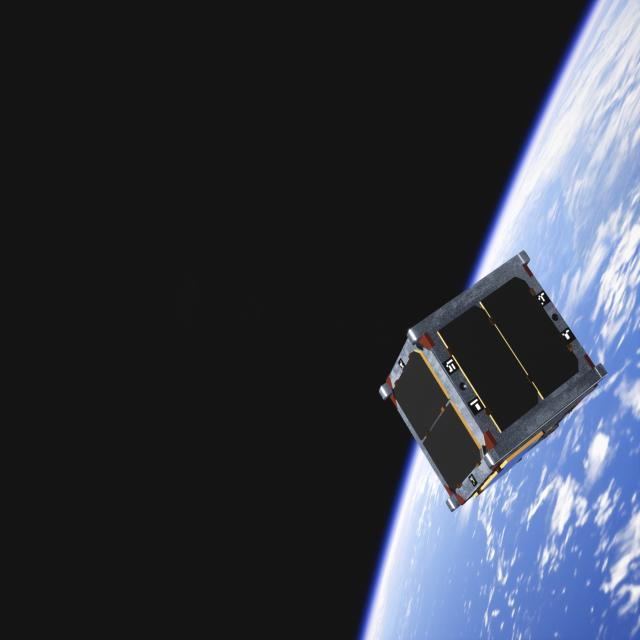medium_debris: (376, 250, 620, 517)
